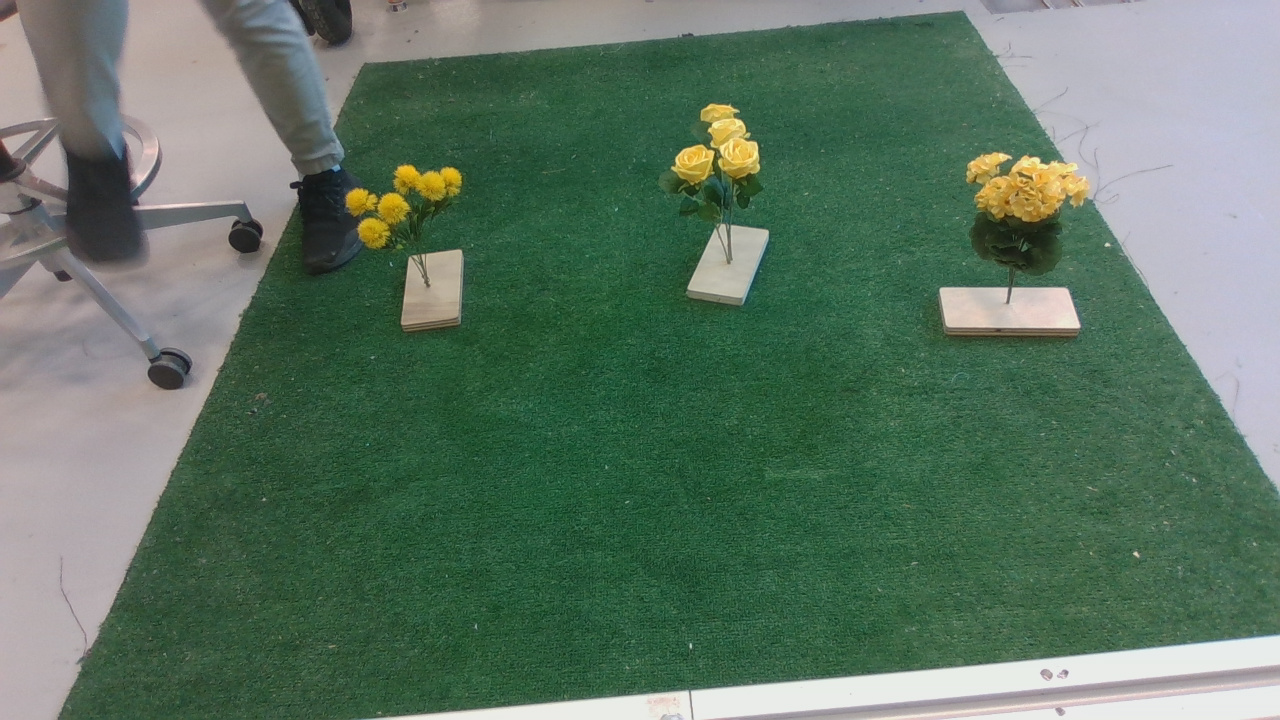dandelion: (342, 162, 473, 265)
geranium: (968, 152, 1108, 287)
rose: (657, 102, 776, 240)
